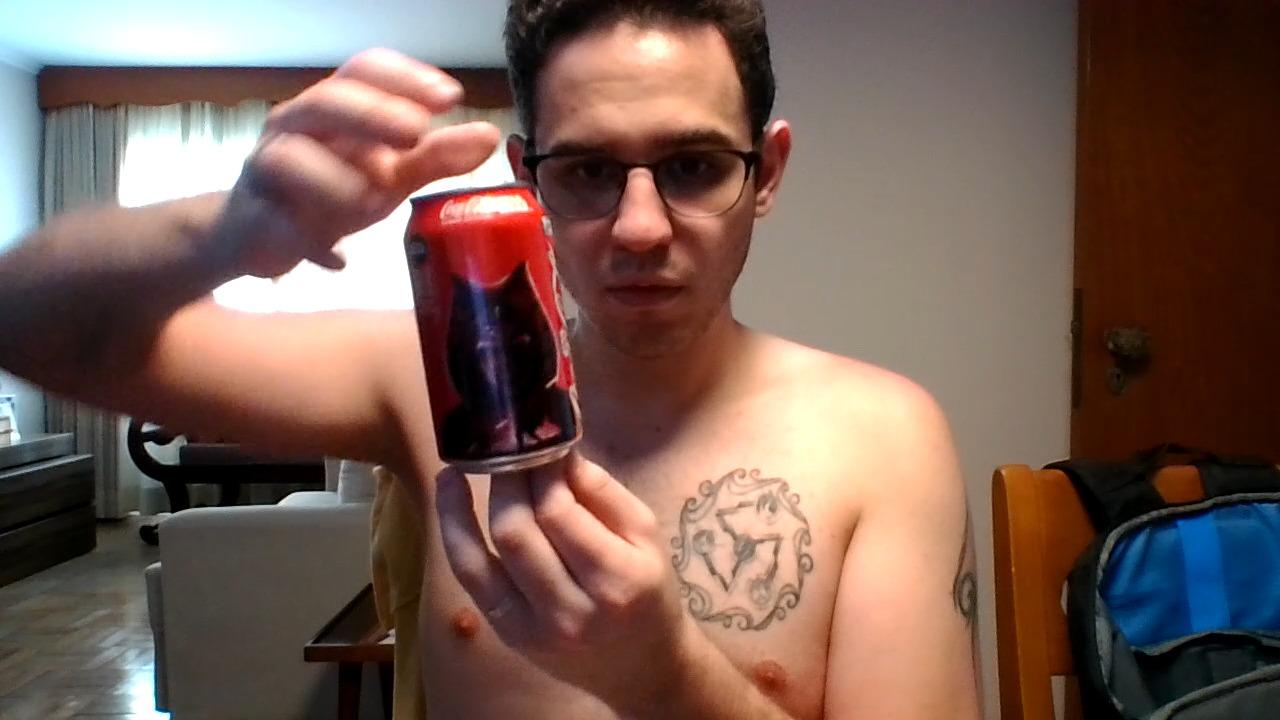coke: (404, 184, 586, 477)
